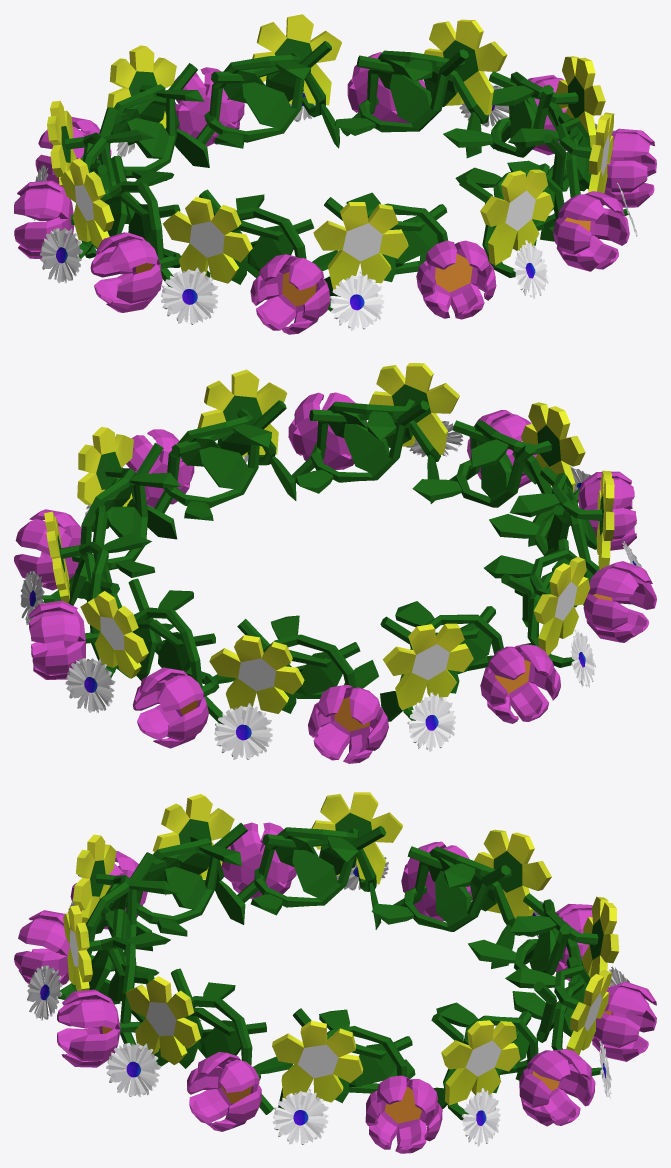
File: flower_crown.glb
3 renders of one model, top to bottom at view 1: azimuth 30°, elevation 25°; view 2: azimuth 150°, elevation 25°; view 3: azimuth 270°, elevation 25°, orthographic.
Parts seen in each view (by area): view 1: flowercrown_hatlas_0; view 2: flowercrown_hatlas_0; view 3: flowercrown_hatlas_0.
Part boxes in pixels (x1=…): flowercrown_hatlas_0: x1=14, y1=14, x2=656, y2=334; flowercrown_hatlas_0: x1=14, y1=363, x2=656, y2=763; flowercrown_hatlas_0: x1=14, y1=792, x2=656, y2=1153.
Bounding box in the file's own units: 0.2914 × 0.0857 × 0.3038.
1 material, 1 textured.
